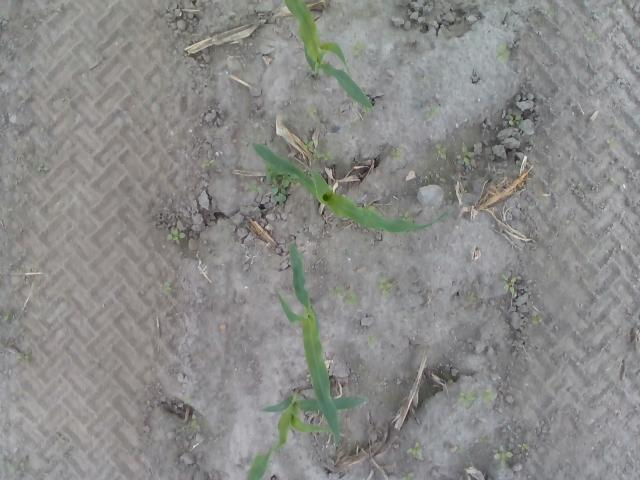Maize: (253, 143, 448, 235), (274, 241, 342, 448), (283, 0, 375, 114), (264, 391, 368, 452), (247, 446, 272, 480)
Weeds: (304, 140, 336, 162), (272, 176, 293, 204), (336, 286, 360, 306), (494, 42, 512, 64), (502, 273, 518, 297), (406, 442, 424, 462), (455, 390, 475, 408), (480, 387, 497, 407), (378, 275, 392, 298), (462, 143, 475, 166), (166, 228, 186, 242), (495, 450, 513, 465), (434, 143, 449, 161), (190, 415, 202, 433), (16, 354, 32, 366), (0, 461, 15, 473), (352, 42, 364, 57), (584, 31, 600, 42), (160, 282, 173, 294), (389, 150, 402, 162), (200, 158, 214, 169), (508, 114, 520, 126), (465, 290, 476, 303), (605, 136, 616, 148), (532, 312, 543, 324), (306, 104, 318, 114), (403, 471, 416, 480), (36, 165, 49, 174), (544, 8, 558, 16), (518, 441, 529, 451), (249, 184, 260, 194), (2, 312, 12, 322), (400, 213, 410, 221), (367, 336, 376, 344), (478, 436, 486, 443)
